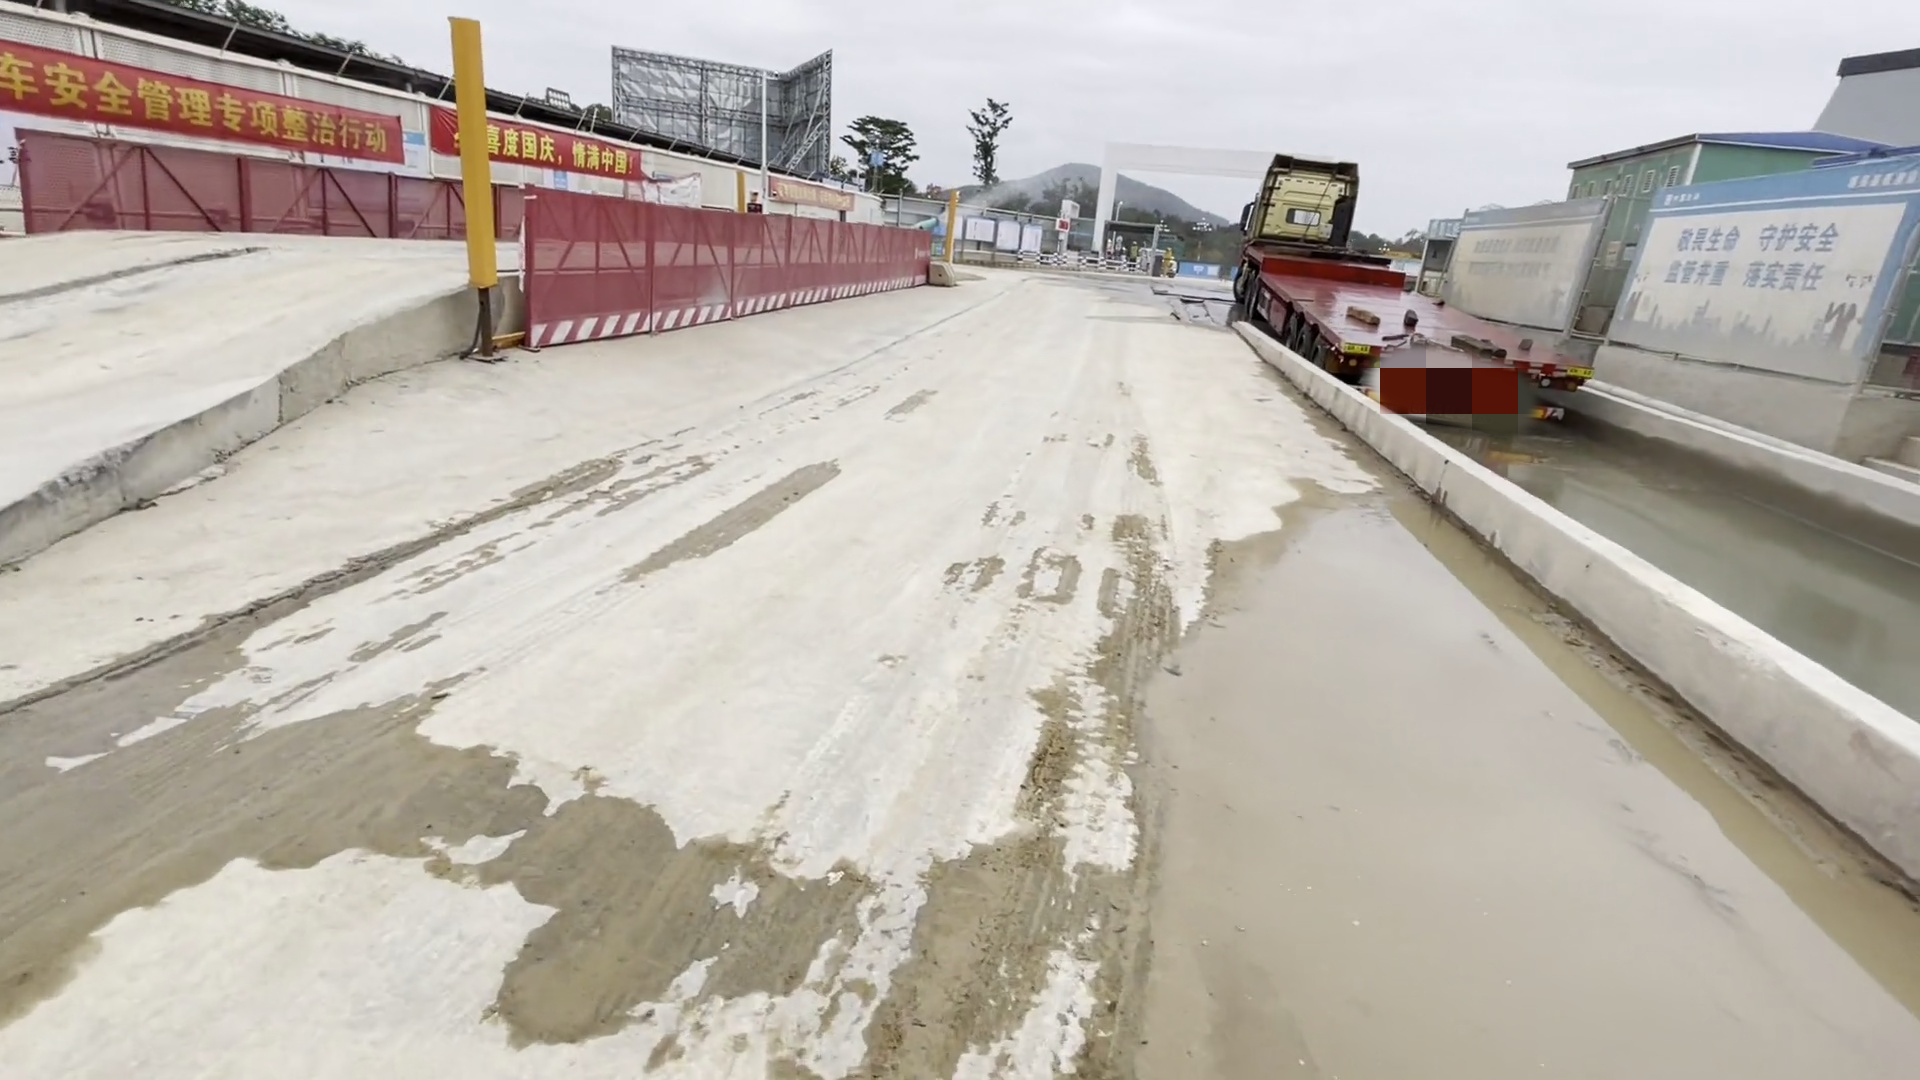slogan: (1630, 164, 1920, 386), (1, 58, 401, 162), (1445, 214, 1593, 309), (433, 112, 644, 178)
